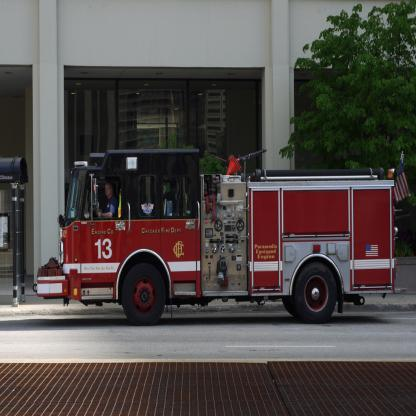Truck: (33, 149, 411, 325)
